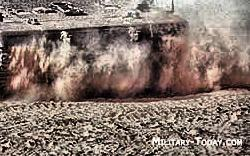tanks: (1, 1, 173, 61), (1, 75, 10, 86), (1, 63, 8, 72)
